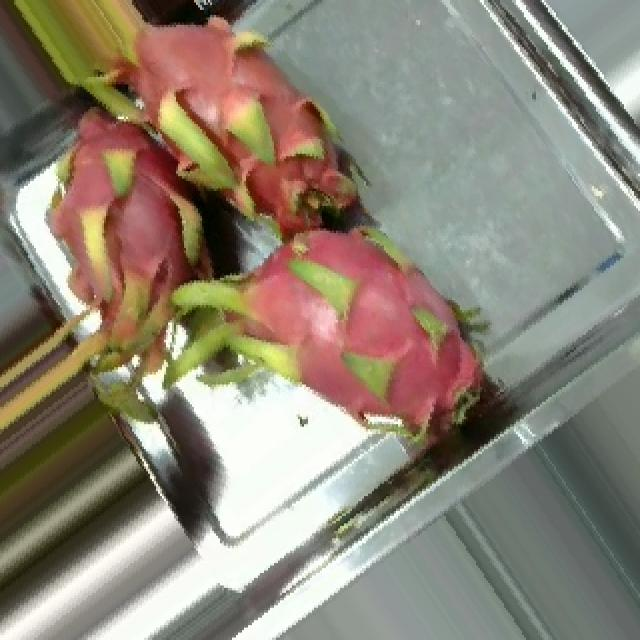Fruit: (98, 0, 240, 45)
